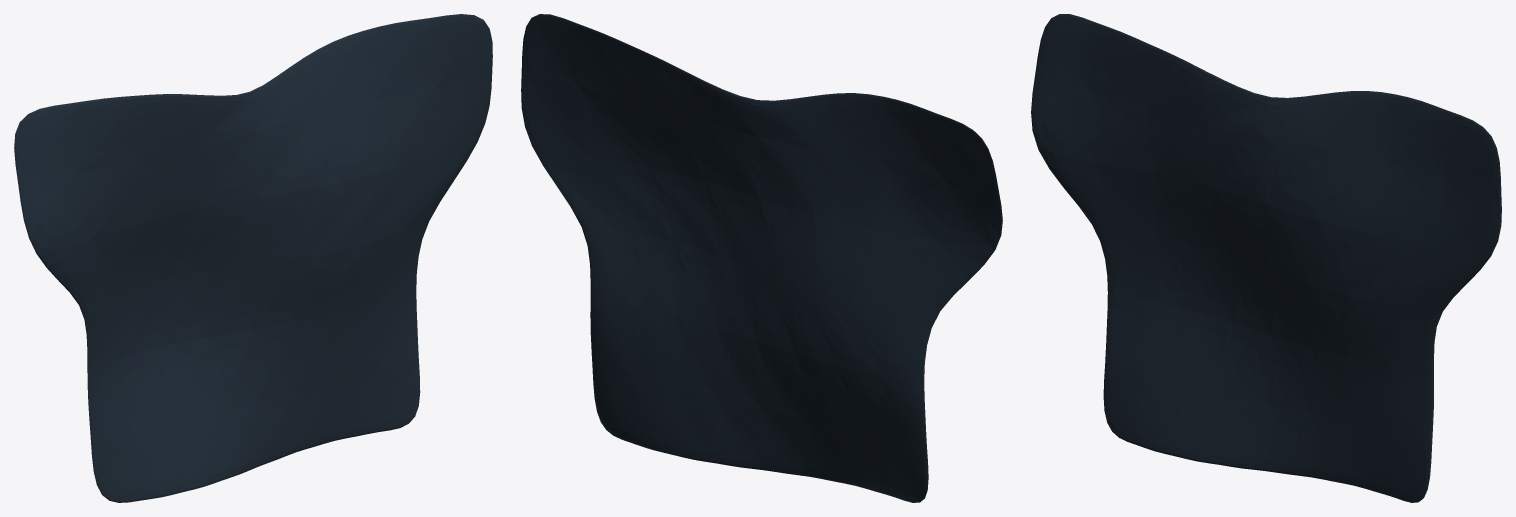
Rendered from coat_0.obj.
3 renders of one model, left to right at view 1: azimuth 30°, elevation 25°; view 2: azimuth 150°, elevation 25°; view 3: azimuth 330°, elevation 25°, orthographic. The views are drawn at different scales.
Bounding box in the file's own units: 0.2674 × 0.2175 × 0.0211.
